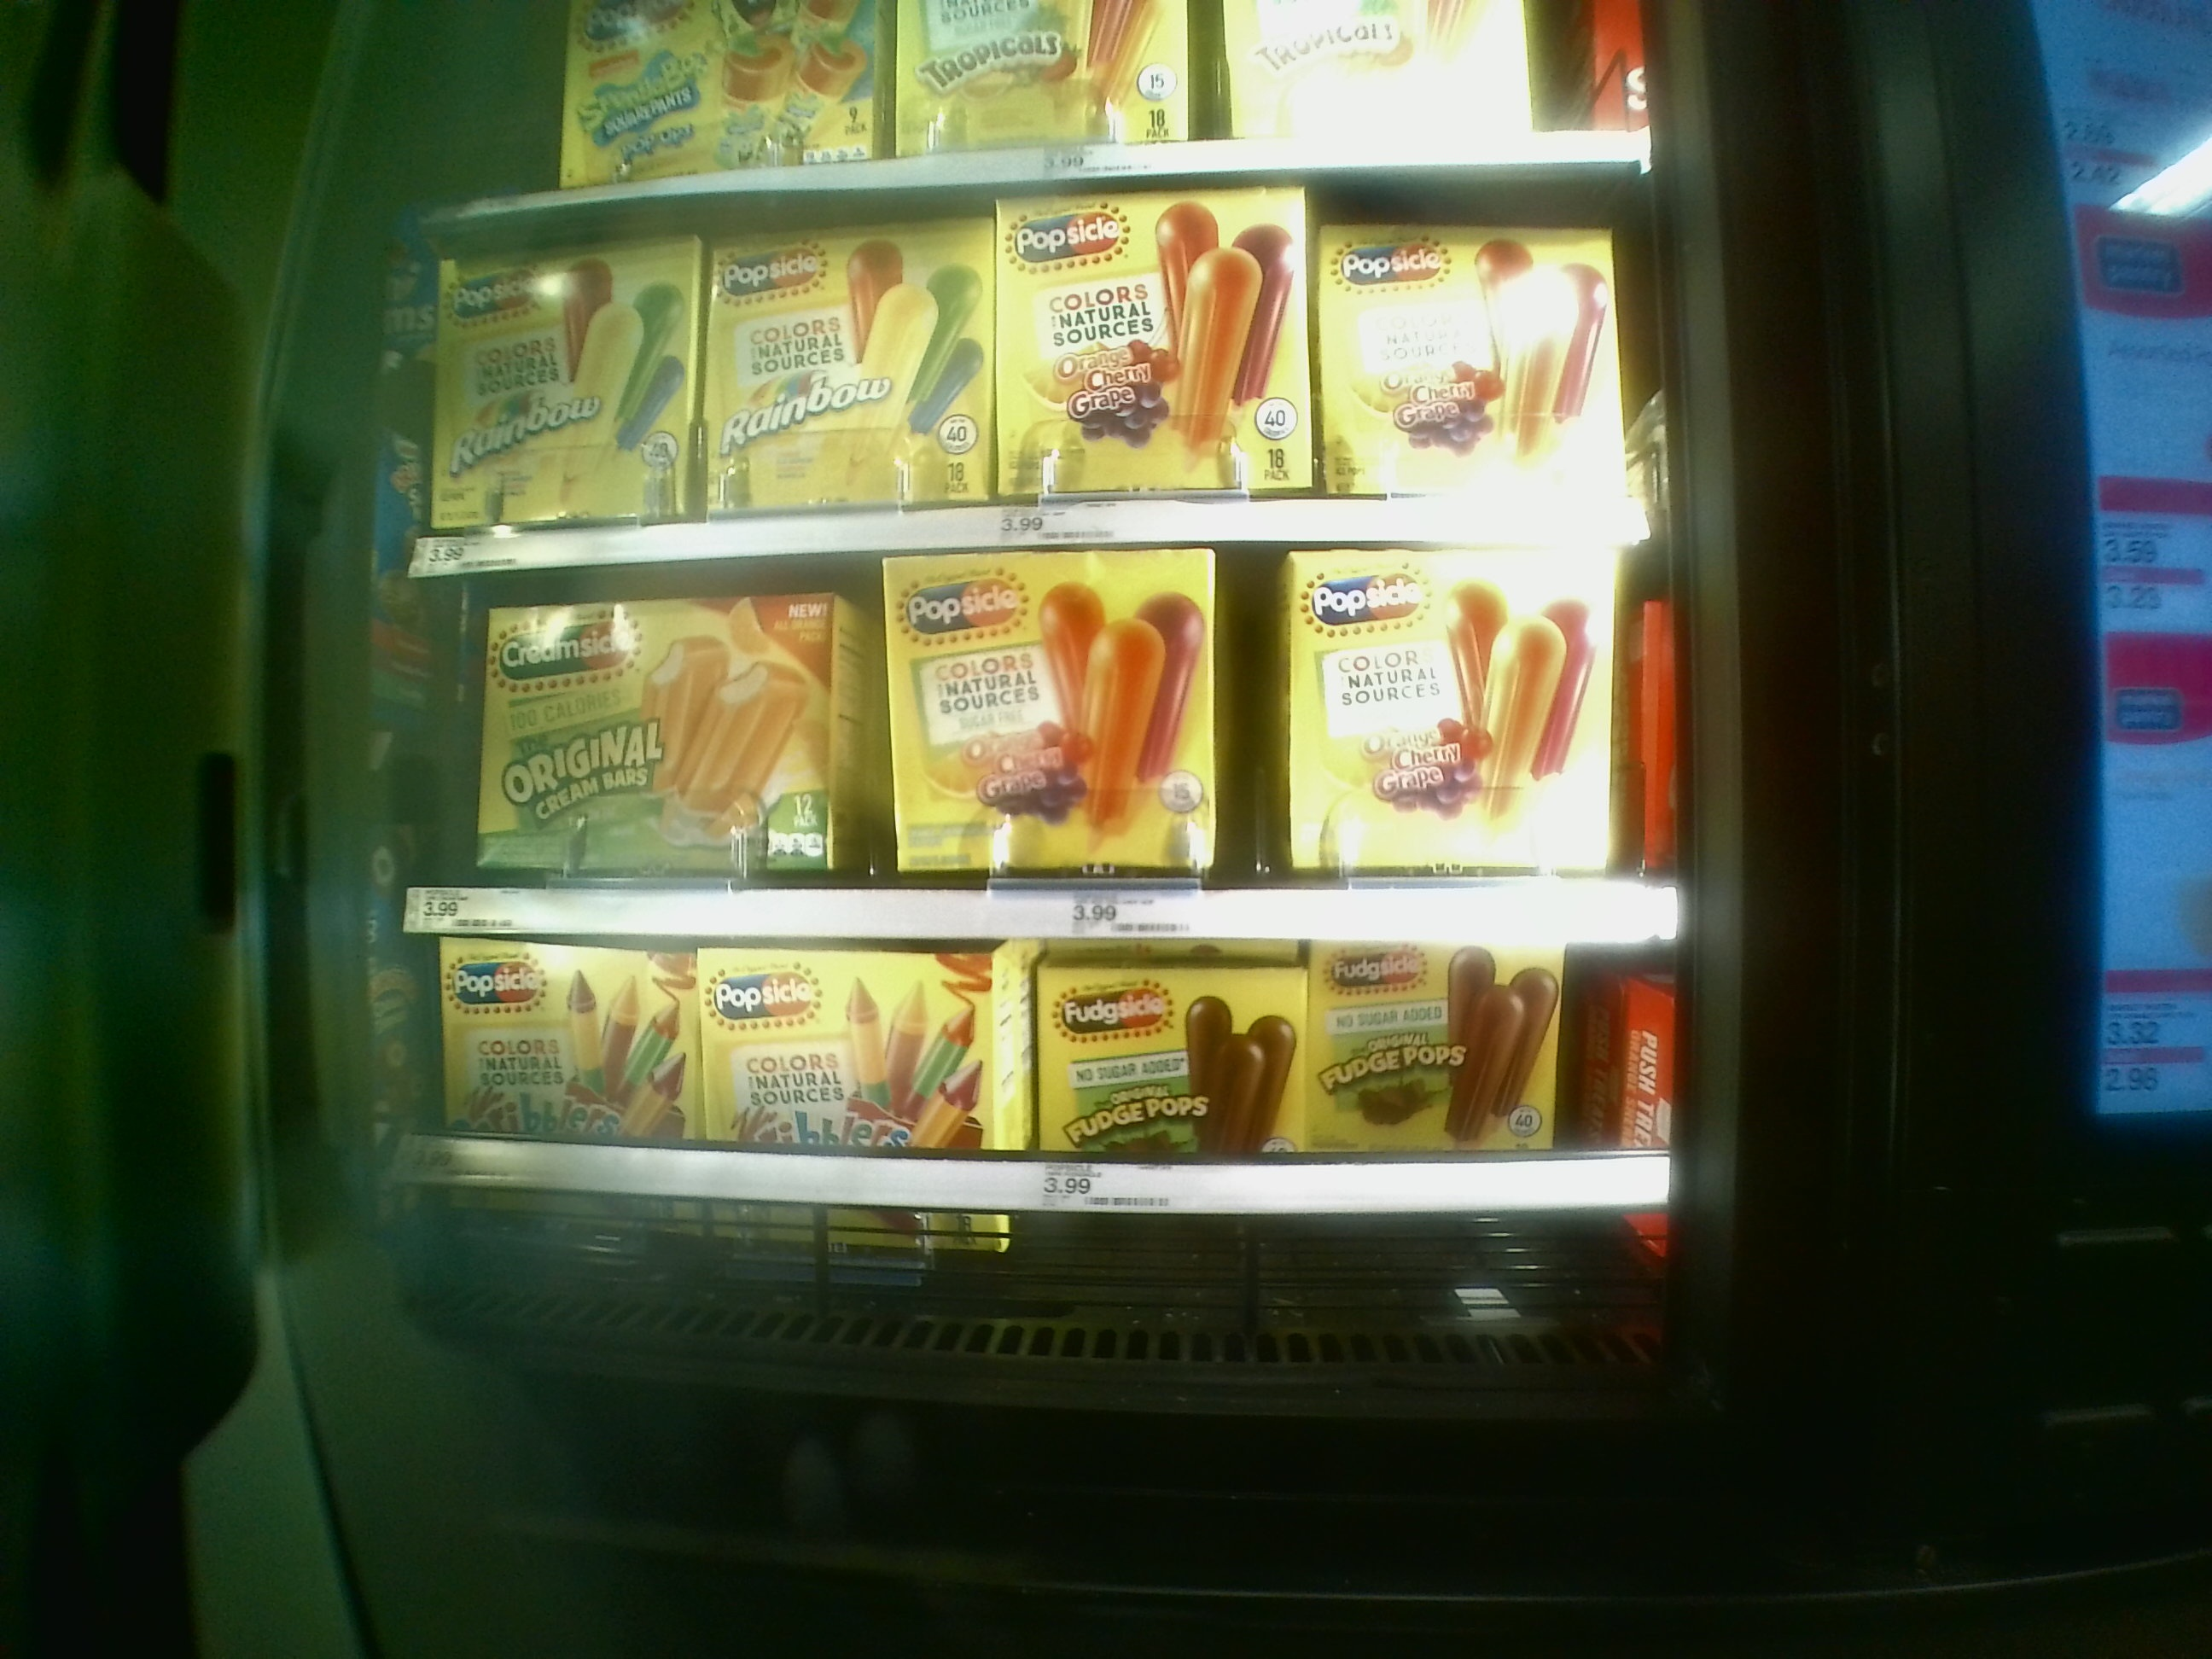frozen-food-shelf: (383, 561, 1688, 936), (406, 247, 1695, 559), (397, 936, 1686, 1209)
